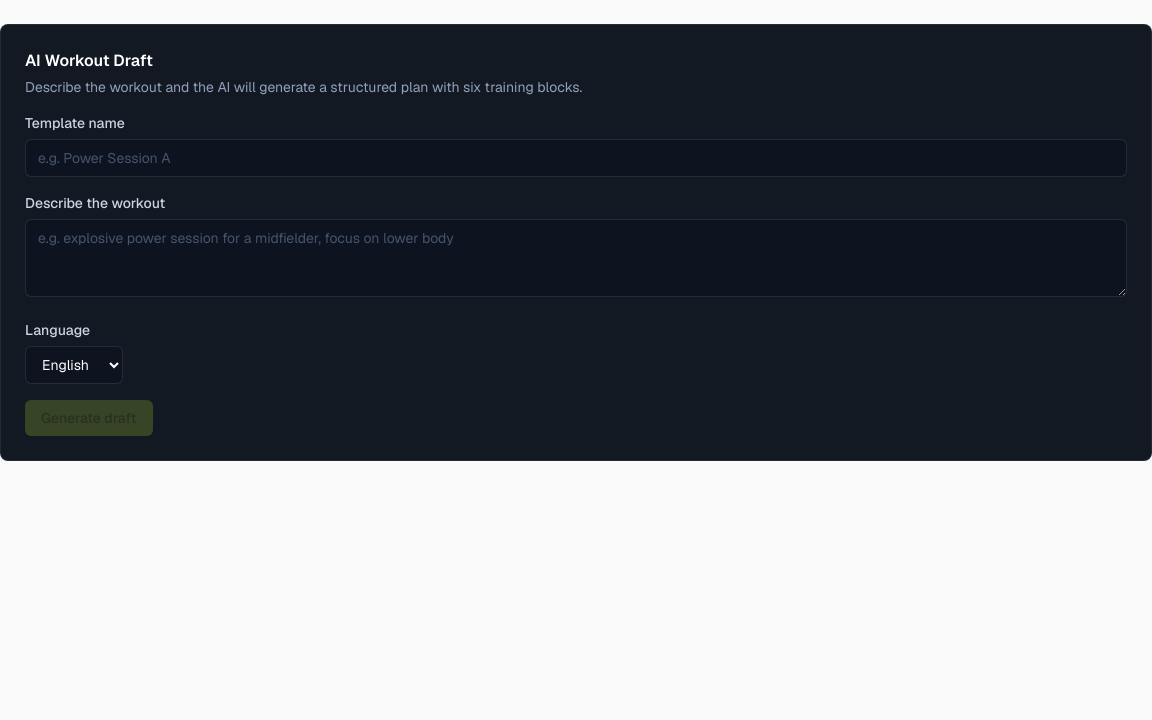
Test case: AiDraftPanel — error states › shows an error when draft generation fails
Step 1. Type "Power Session A" into the field labelled "Template name" → (576, 158), box [25,139,1127,177]
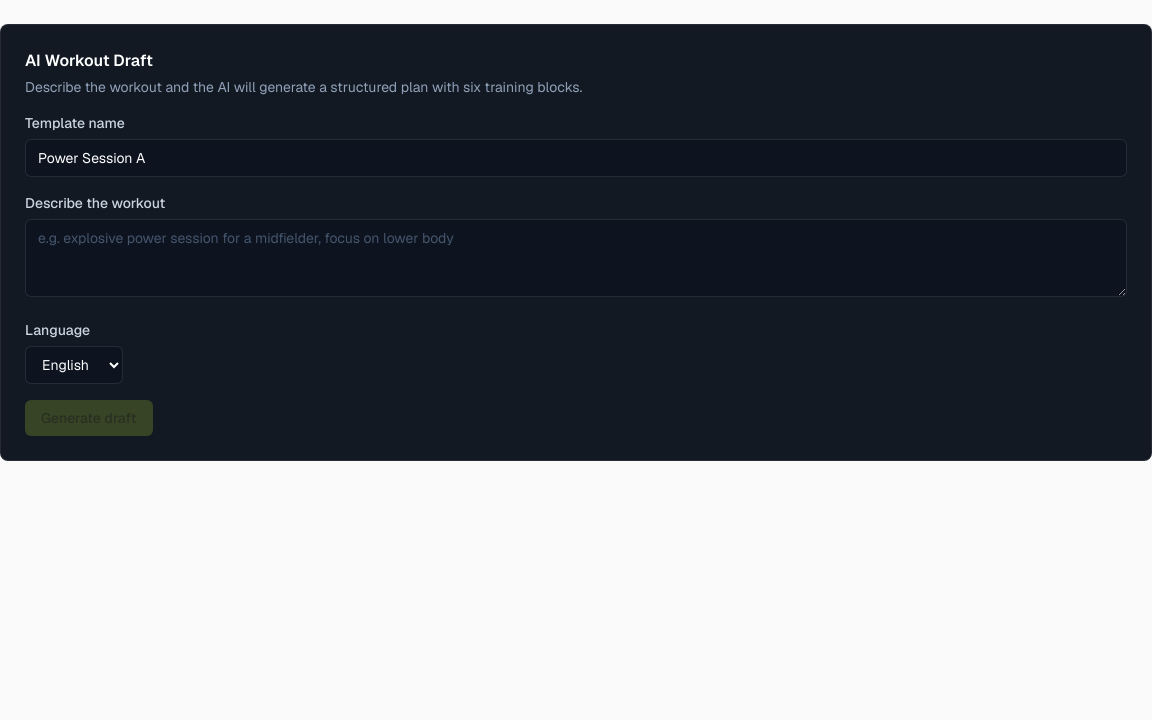
Step 2. Replace the text in the text box labelled "Describe the workout" with "explosive power session" → (576, 258), box [25,219,1127,297]
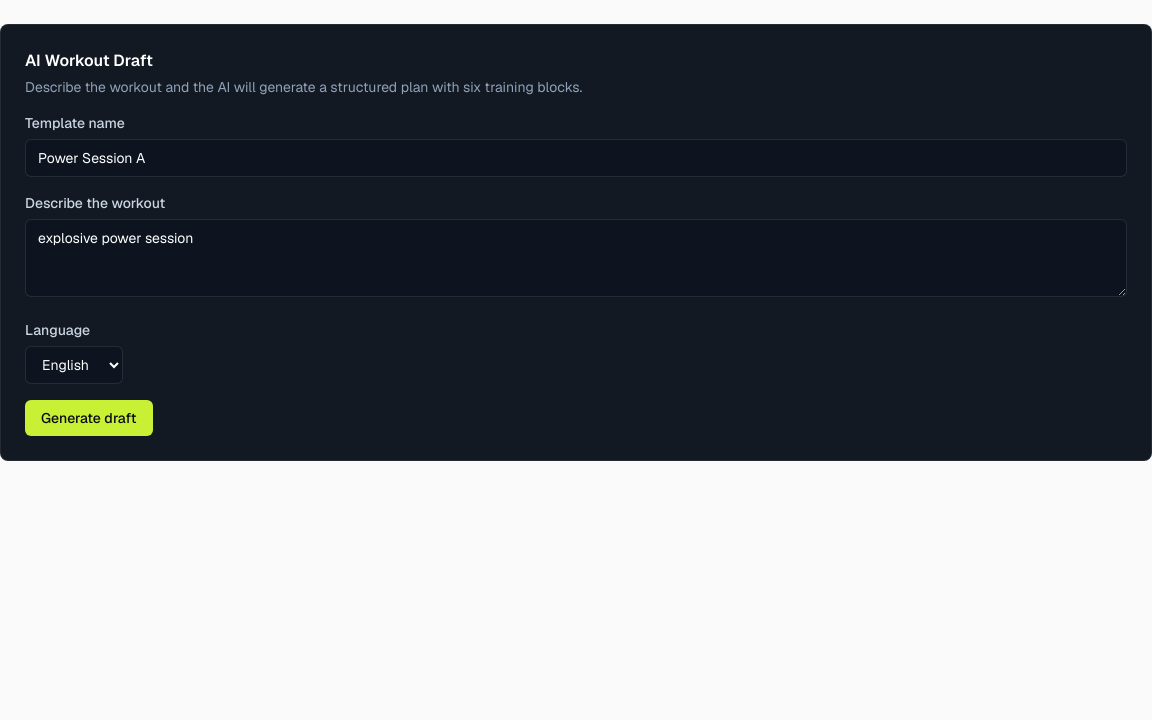
Step 3. Click the button "Generate draft" → click(89, 418), box [25,400,153,436]
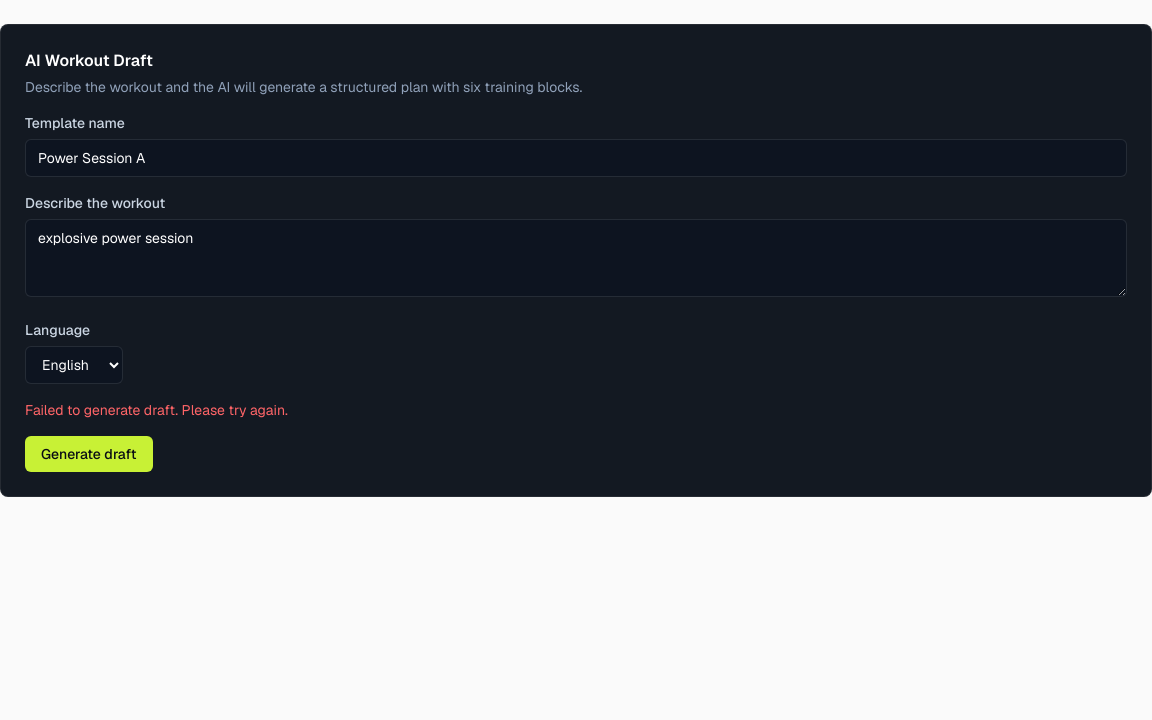
Check: the message shows "Failed to generate draft", box [25,401,288,419]
